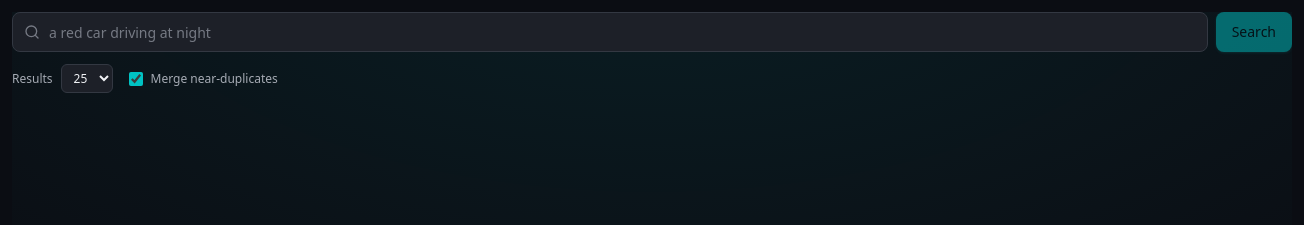
Test: searching › says so when nothing matched, rather than going blank
The width and height of the screenshot is (1304, 225).
Type "a giraffe on a skateboard" into the search field.
click(610, 32); type("a giraffe on a skateboard")  # box [12,12,1208,52]
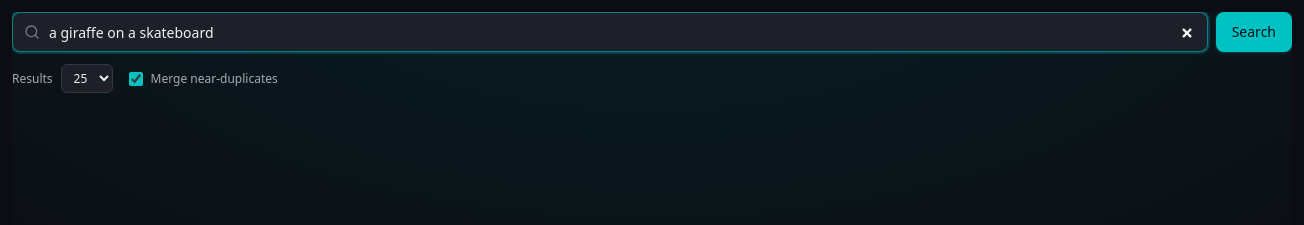
Click the button "Search".
click(1254, 32)  # box [1216,12,1292,52]
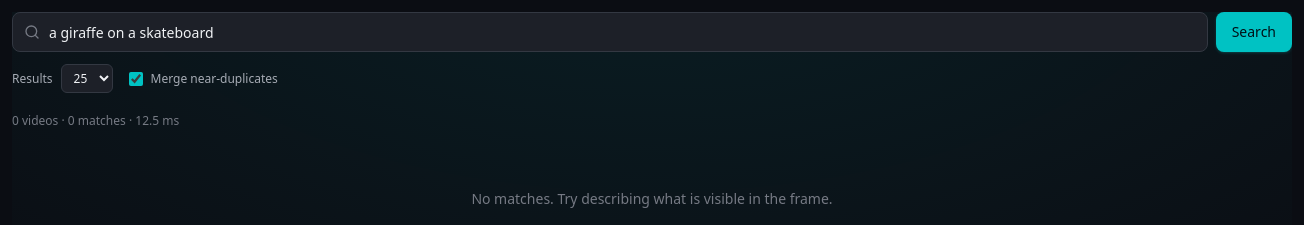
Check: the text "No matches. Try describing what is visible in the frame." is shown, box [471,189,833,208]
